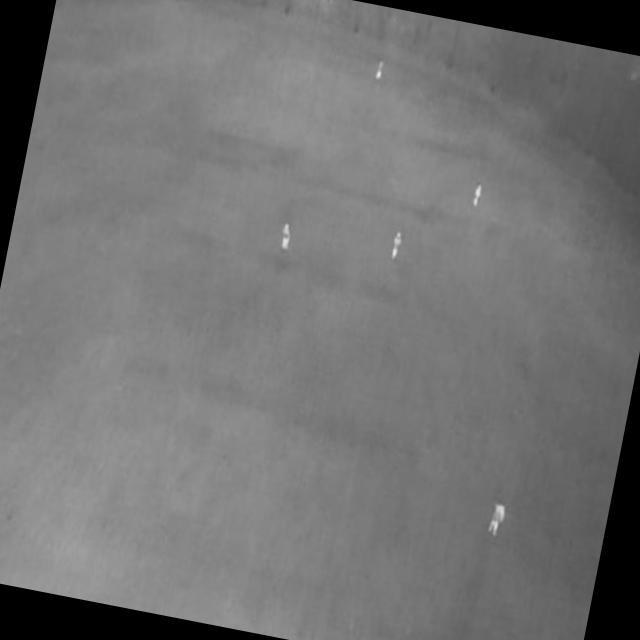person: (485, 500, 509, 540), (277, 222, 294, 254), (389, 229, 404, 264), (469, 183, 484, 212), (374, 59, 386, 83)
